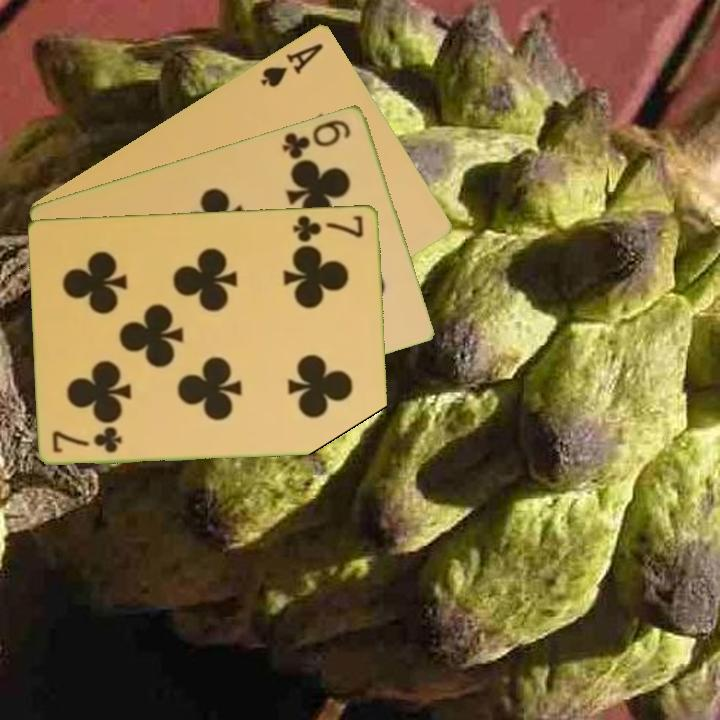6c: (278, 115, 354, 162)
7c: (289, 211, 367, 245), (49, 424, 125, 455)
As: (256, 39, 327, 90)
